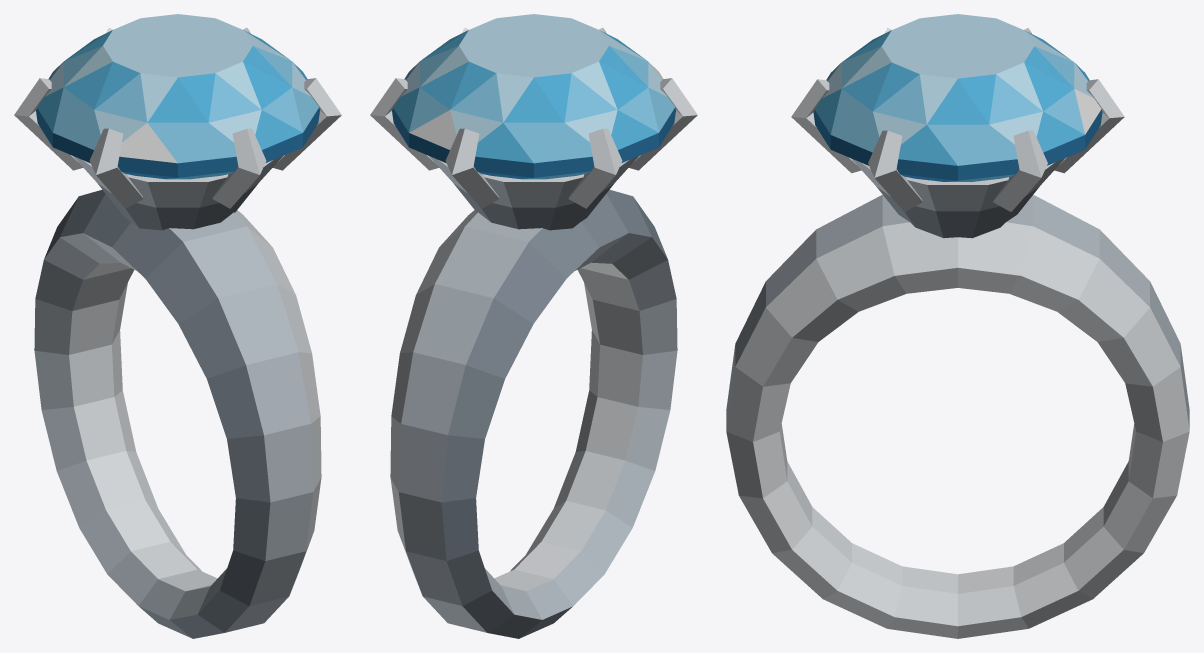
Rendered from treasure_ring.glb.
3 views of the same model, side by side, from view 1: azimuth 30°, elevation 25°; view 2: azimuth 150°, elevation 25°; view 3: azimuth 270°, elevation 25° (orthographic).
Visible parts, largest first — view 1: treasure_ring; view 2: treasure_ring; view 3: treasure_ring.
Boxes of the visible parts, box(x1,y1,x2,y2) form: treasure_ring: box(14, 14, 341, 638); treasure_ring: box(370, 14, 697, 638); treasure_ring: box(726, 14, 1189, 638).
Bounding box in the file's own units: 0.043 × 0.0941 × 0.0678.
